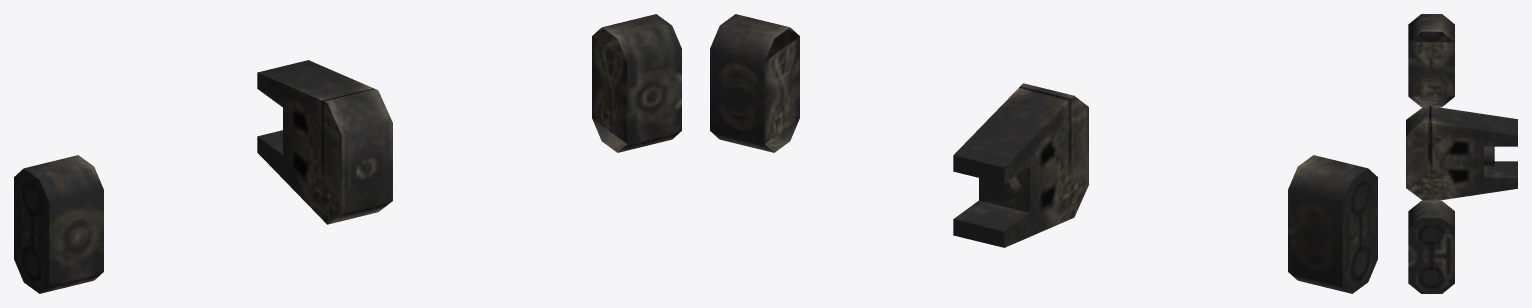
3 renders of one model, left to right at view 1: azimuth 30°, elevation 25°; view 2: azimuth 150°, elevation 25°; view 3: azimuth 270°, elevation 25°, orthographic. The views are drawn at different scales.
Visible parts, largest first — view 1: set_0_group_0; view 2: set_0_group_0; view 3: set_0_group_0.
Part boxes in pixels (<box>): set_0_group_0: <box>14,14,681,293</box>; set_0_group_0: <box>710,14,1377,293</box>; set_0_group_0: <box>1406,14,1517,293</box>.
Size of the model in its own units: 0.6497 by 0.1196 by 0.1503.
1 material, 1 textured.
